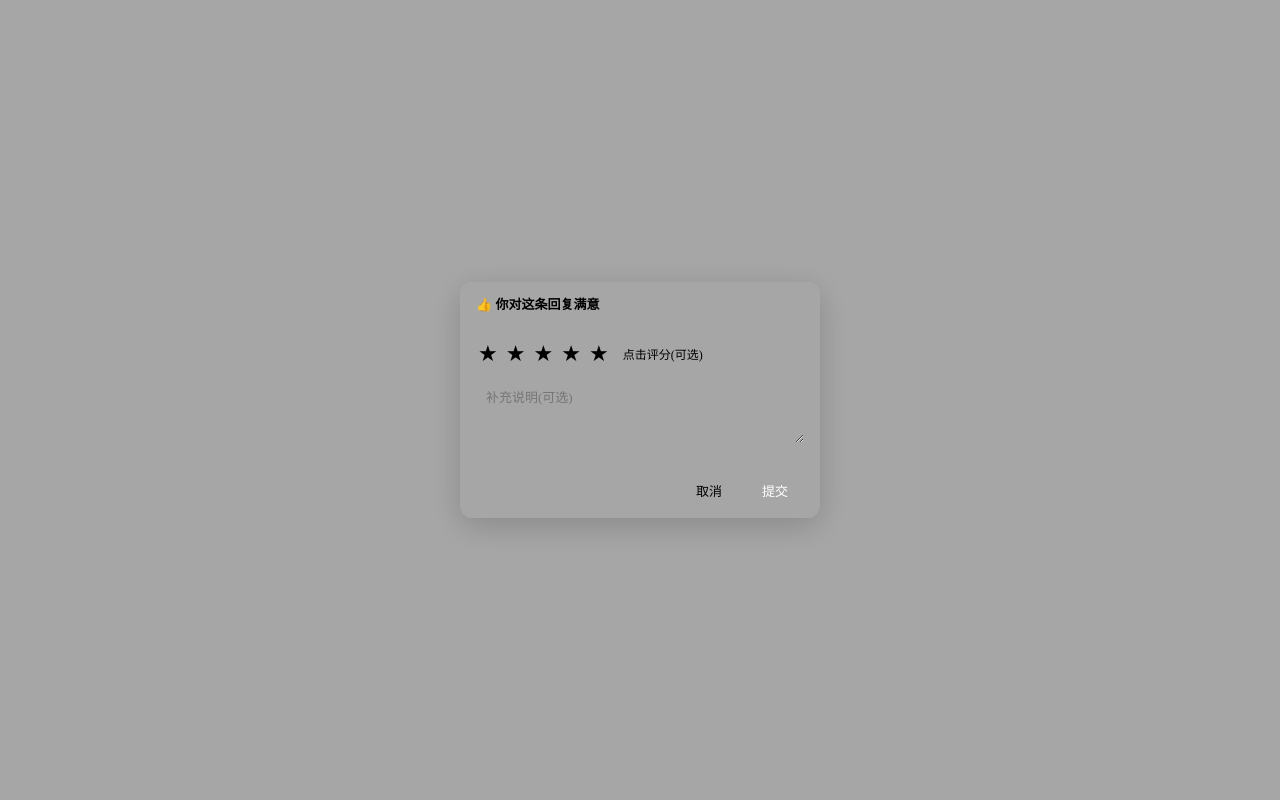
Test: FeedbackDialog › 选星后显示中文标签
Step 1. Click the button named "4 星" → (571, 354), box [559,341,583,367]
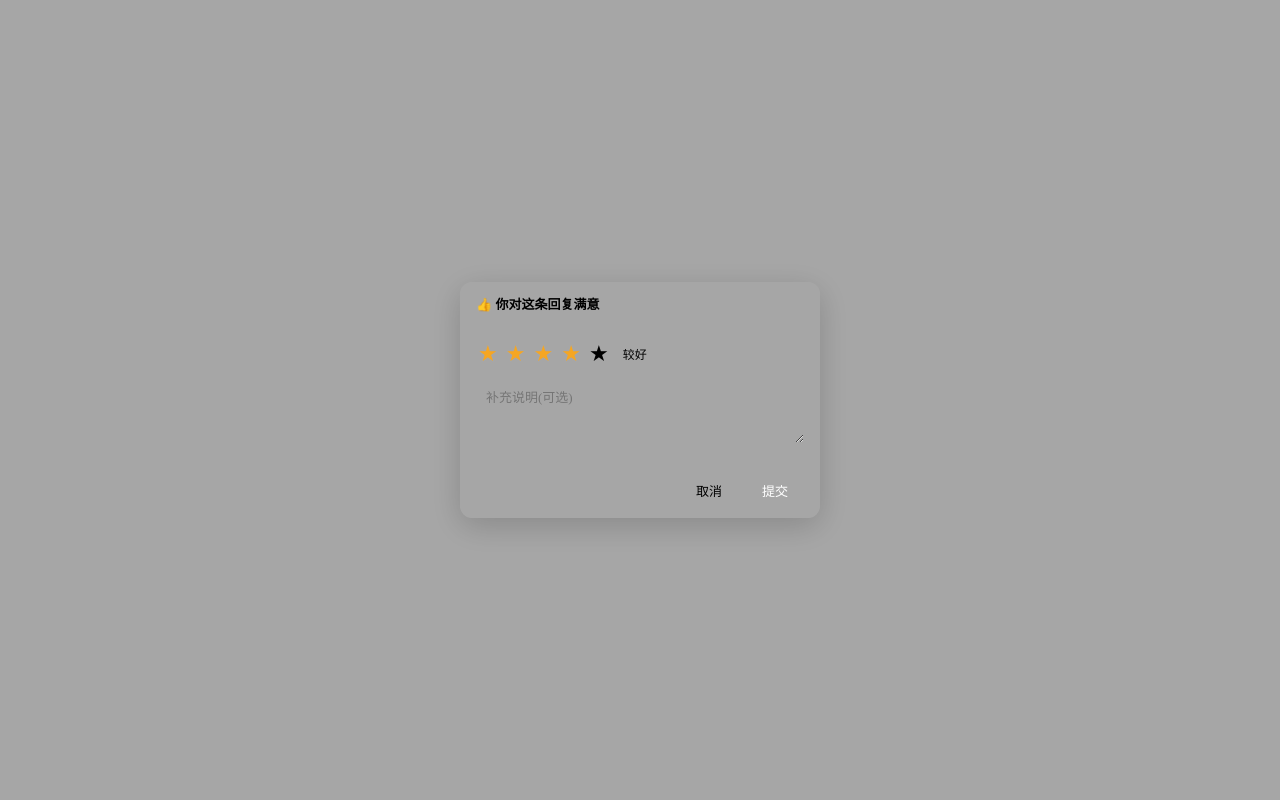
Expected: the text "较好" is shown, [623,345,647,363]
